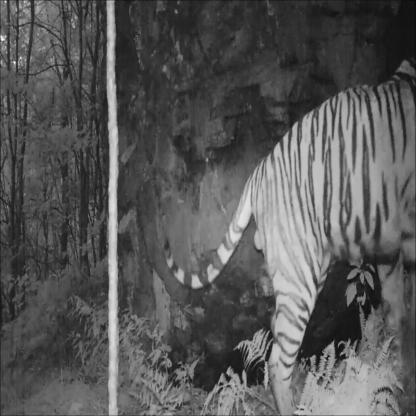Tiger: (147, 53, 415, 413)
